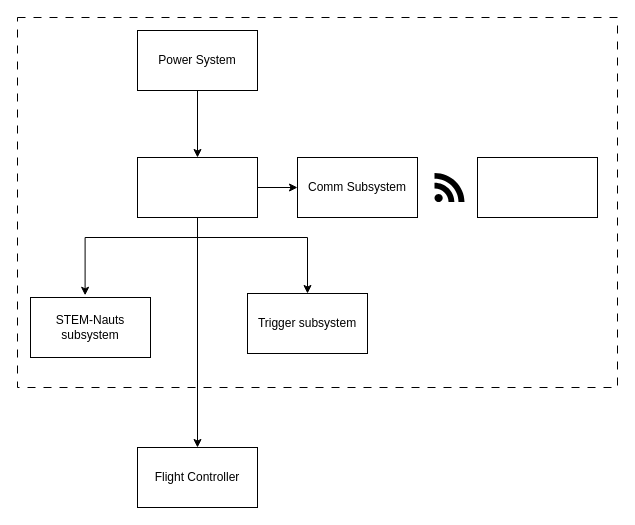
Image size: 635x525. Some labels were removed from this diagram. Here are the shapes that lost their labels. From the top down, the box of each, then its label:
(136, 156, 258, 218): Main Computer
(476, 156, 598, 218): Ground Computer
